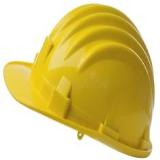Helmet: (3, 3, 155, 158)
